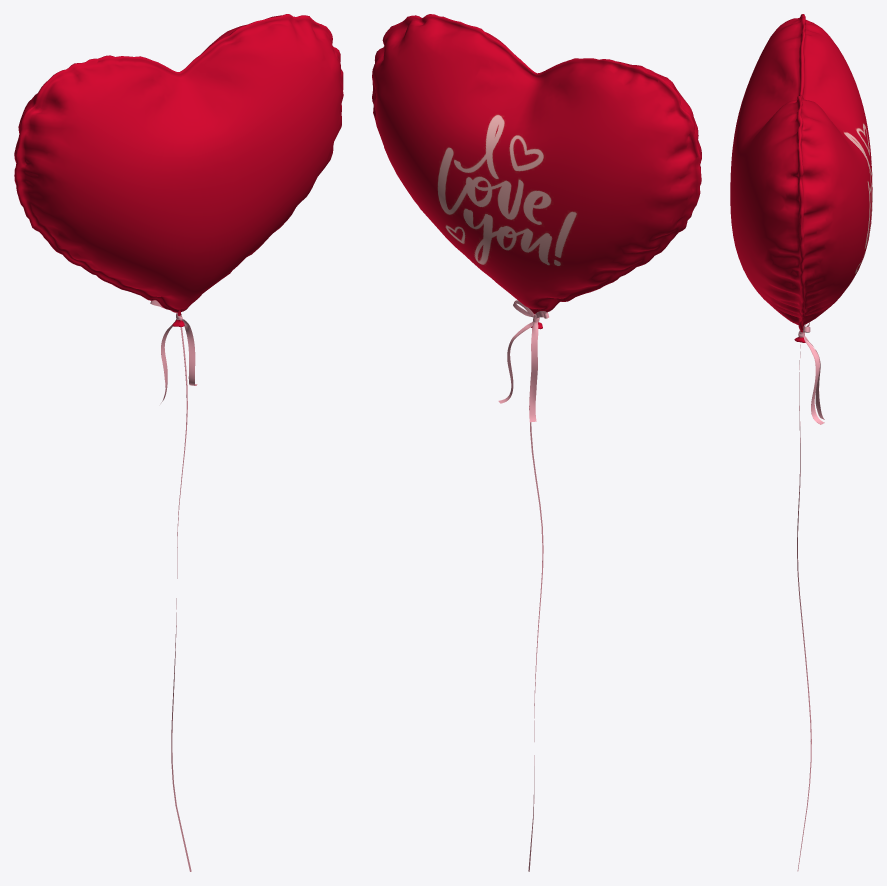
The model's file is red_baloon.glb.
3 renders of one model, left to right at view 1: azimuth 30°, elevation 25°; view 2: azimuth 150°, elevation 25°; view 3: azimuth 270°, elevation 25°, orthographic. The views are drawn at different scales.
Parts seen in each view (by area): view 1: Love_Baloon; view 2: Love_Baloon; view 3: Love_Baloon.
Part boxes in pixels (bbox=[...]): Love_Baloon: bbox=[14, 14, 343, 871]; Love_Baloon: bbox=[372, 14, 701, 871]; Love_Baloon: bbox=[730, 14, 872, 871].
Bounding box in the file's own units: 1.51 × 3.65 × 0.5883.
Materials: 1 (1 with a texture image).
